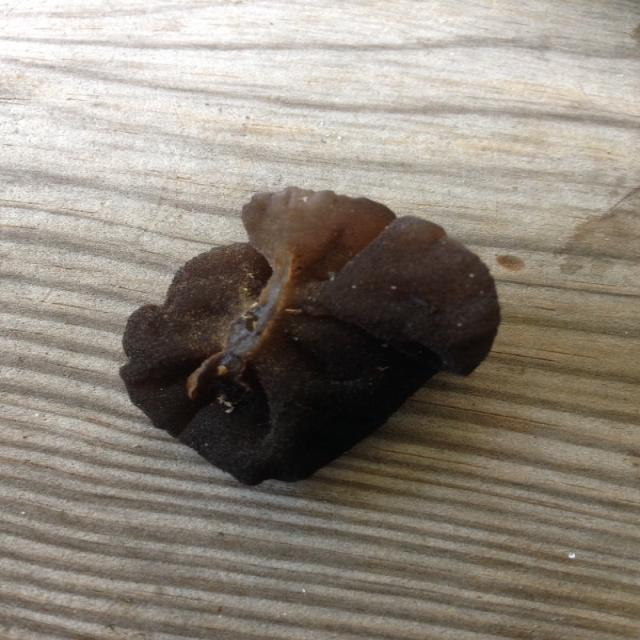Auricularia auricula: (116, 186, 502, 485)
